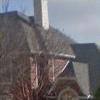Chimney: (28, 4, 55, 30)
